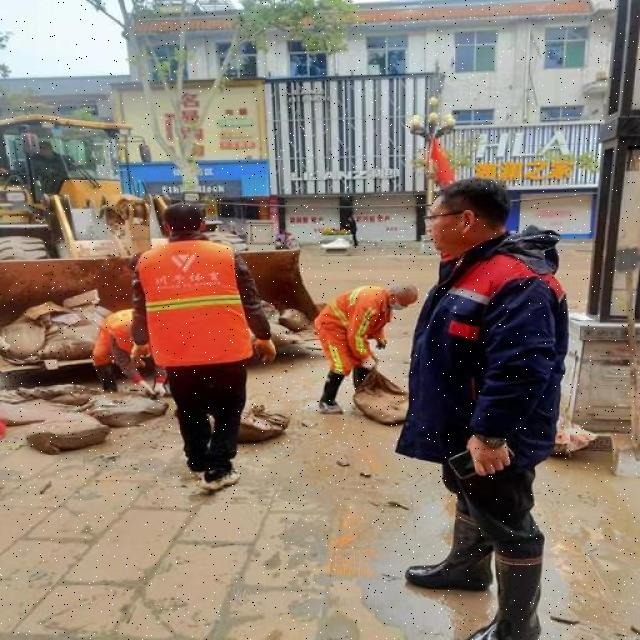rescuer: (108, 182, 277, 512), (295, 260, 429, 418)
